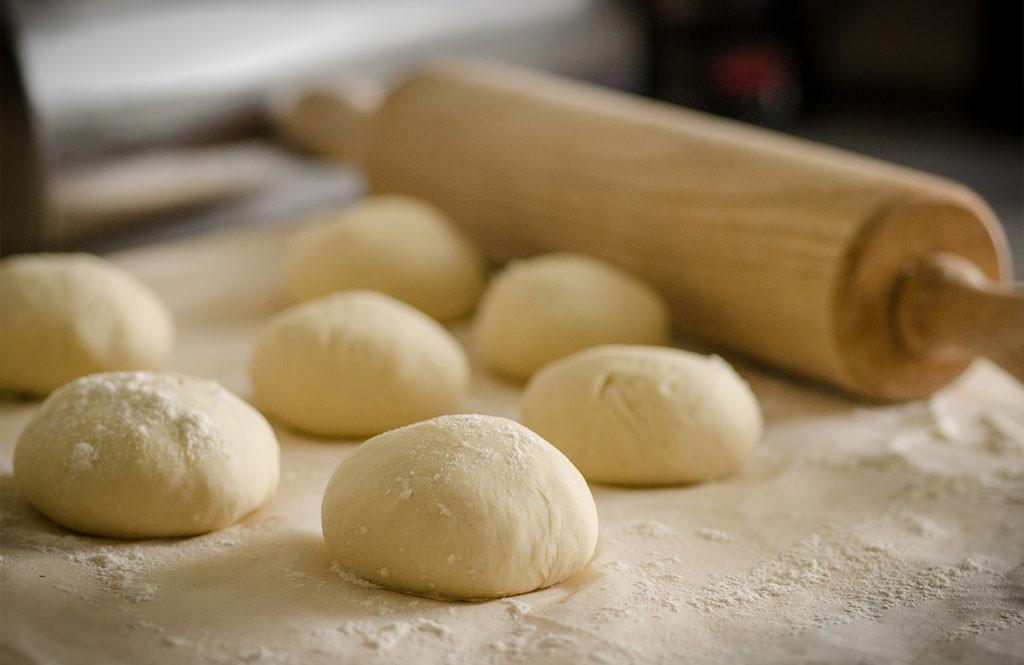momos: (322, 414, 598, 597), (14, 372, 280, 538), (522, 344, 762, 486), (250, 290, 470, 435), (0, 254, 174, 396), (476, 254, 668, 380)
